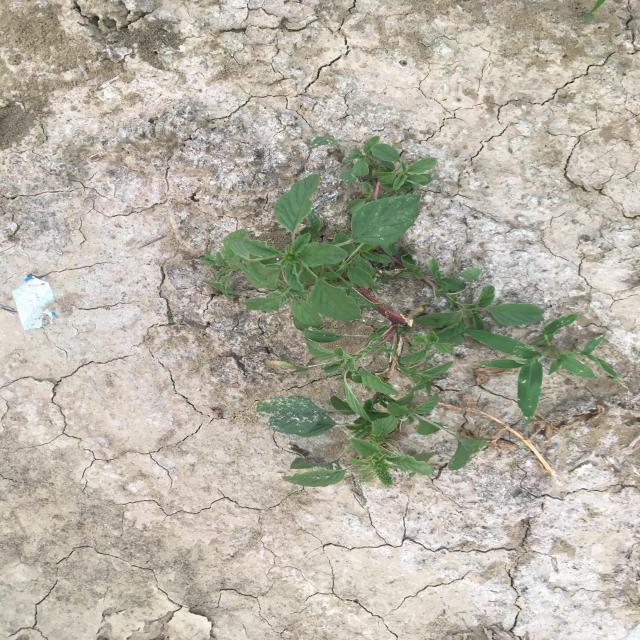PalmerAmaranth: (200, 134, 546, 490)
